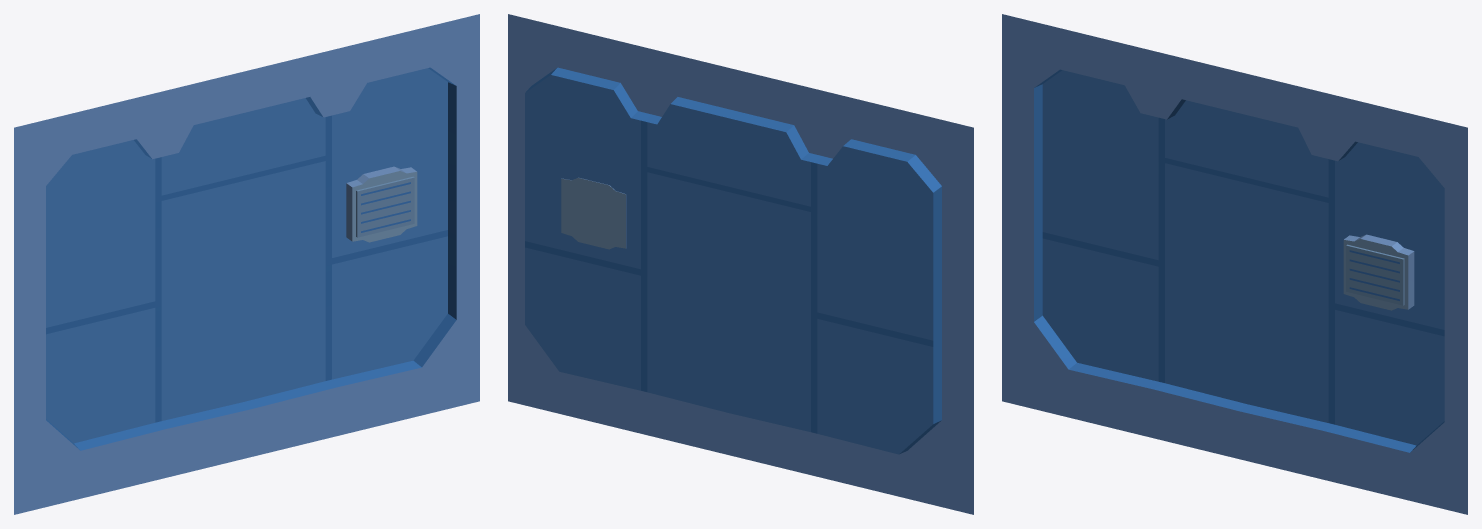
3 views of the same model, side by side, from view 1: azimuth 30°, elevation 25°; view 2: azimuth 150°, elevation 25°; view 3: azimuth 330°, elevation 25° (orthographic).
Visible parts, largest first — view 1: bg; view 2: bg; view 3: bg.
Part boxes in pixels (bbox=[...]): bg: bbox=[14, 14, 479, 514]; bg: bbox=[508, 14, 973, 514]; bg: bbox=[1002, 14, 1467, 514].
Bounding box in the file's own units: 1588 × 1262 × 46.53.
